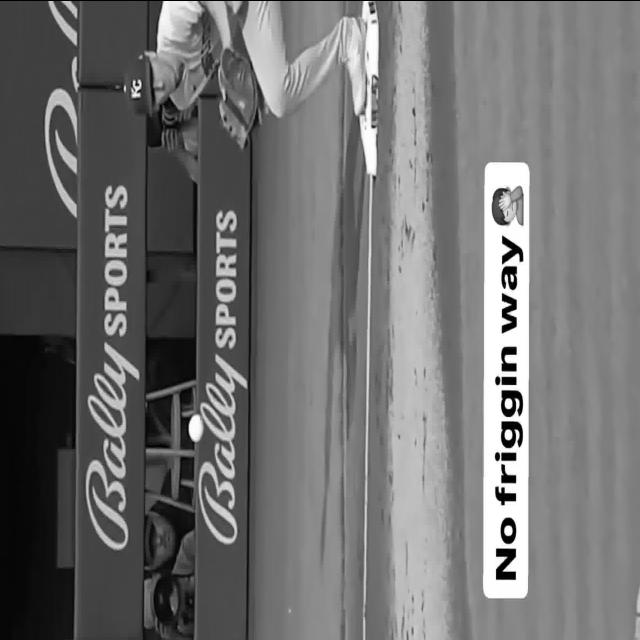base: (360, 0, 379, 175)
baseball: (189, 413, 204, 442)
baseball_glove: (218, 47, 259, 147)
shoe: (346, 15, 366, 115)
